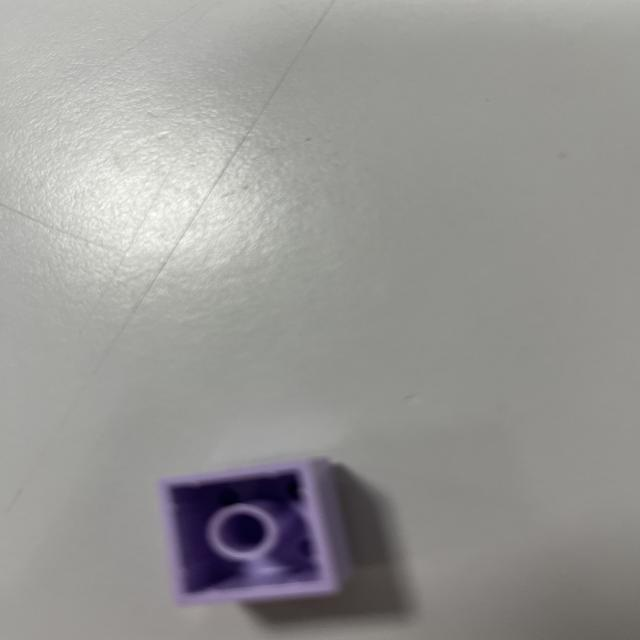C2x1x1: (157, 454, 352, 606)
